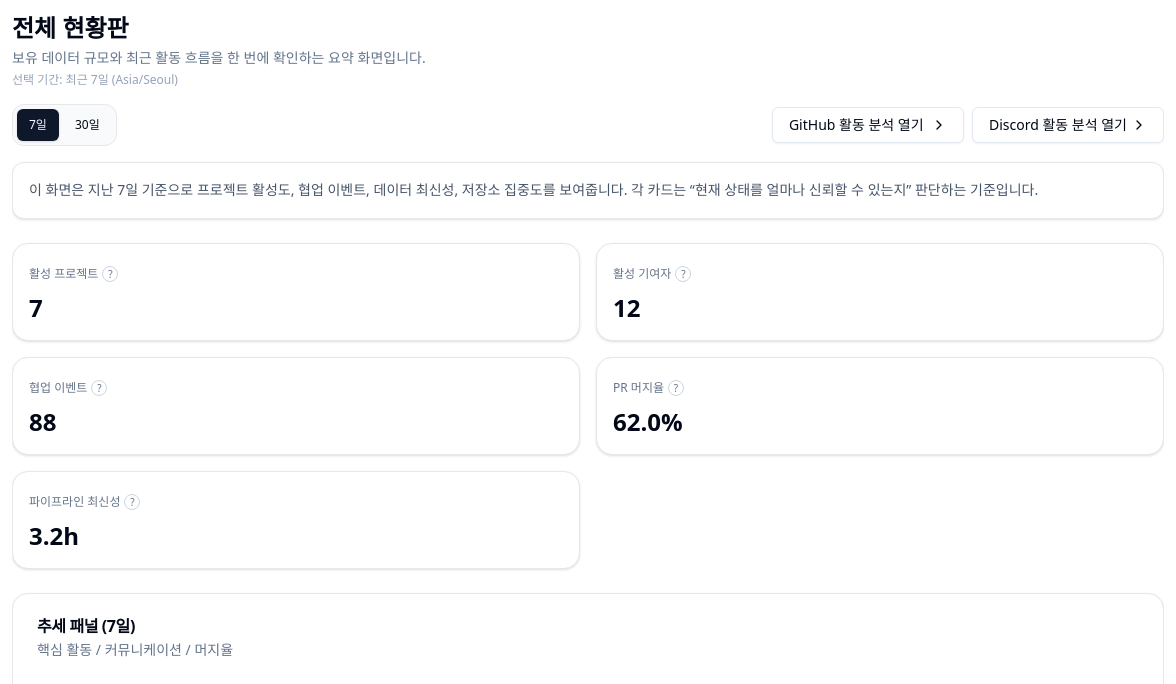
Scenario: Dashboard Overview Component › updates selected-period copy and refetches when window changes to 30d
expect the text "선택 기간: 최근 7일 (Asia/Seoul)" is shown: met, box [12, 71, 178, 88]
expect the text "추세 패널 (7일)" is shown: met, box [37, 615, 135, 637]
Click the button "30일": [87, 125] box [63, 109, 112, 141]
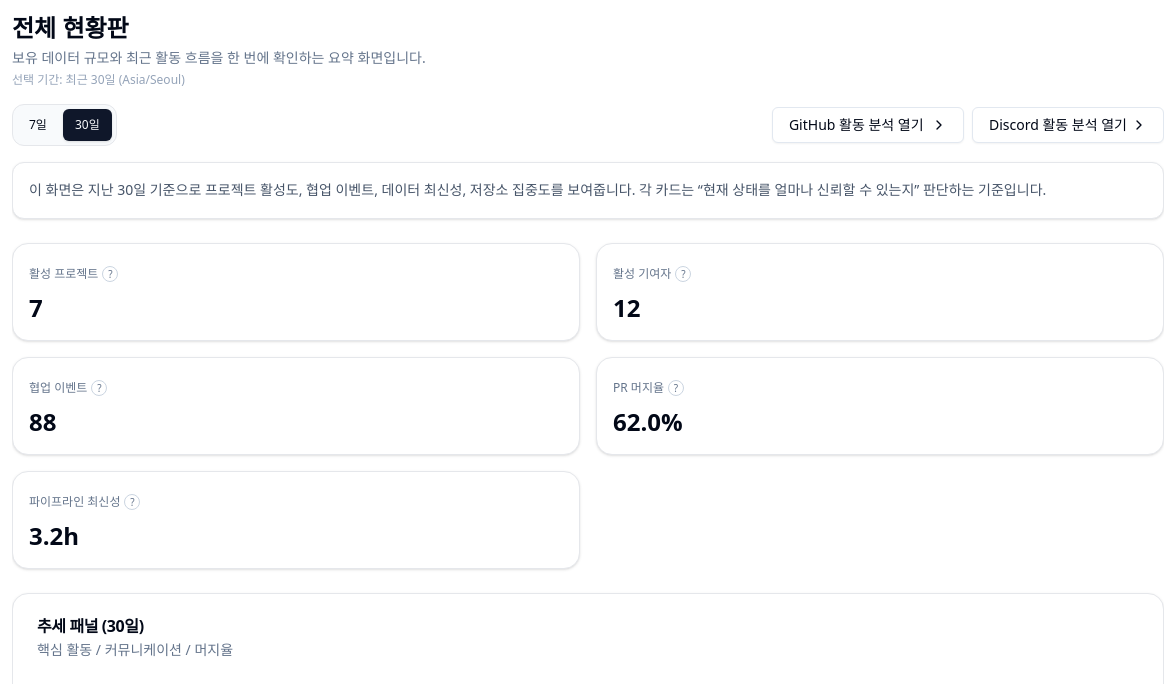
expect the text "선택 기간: 최근 30일 (Asia/Seoul)" is shown: met, box [12, 71, 185, 88]
expect the text "추세 패널 (30일)" is shown: met, box [37, 615, 144, 637]
expect the text "이 화면은 지난 30일 기준으로 프로젝트 활성도, 협업 이벤트, 데이터 최신성, 저장소 집중도를 보여줍니다. 각 카드는 “현재 상태를 얼마나 신뢰할 수 있는지” 판단하는 기준입니다." is shown: met, box [29, 180, 1046, 199]
